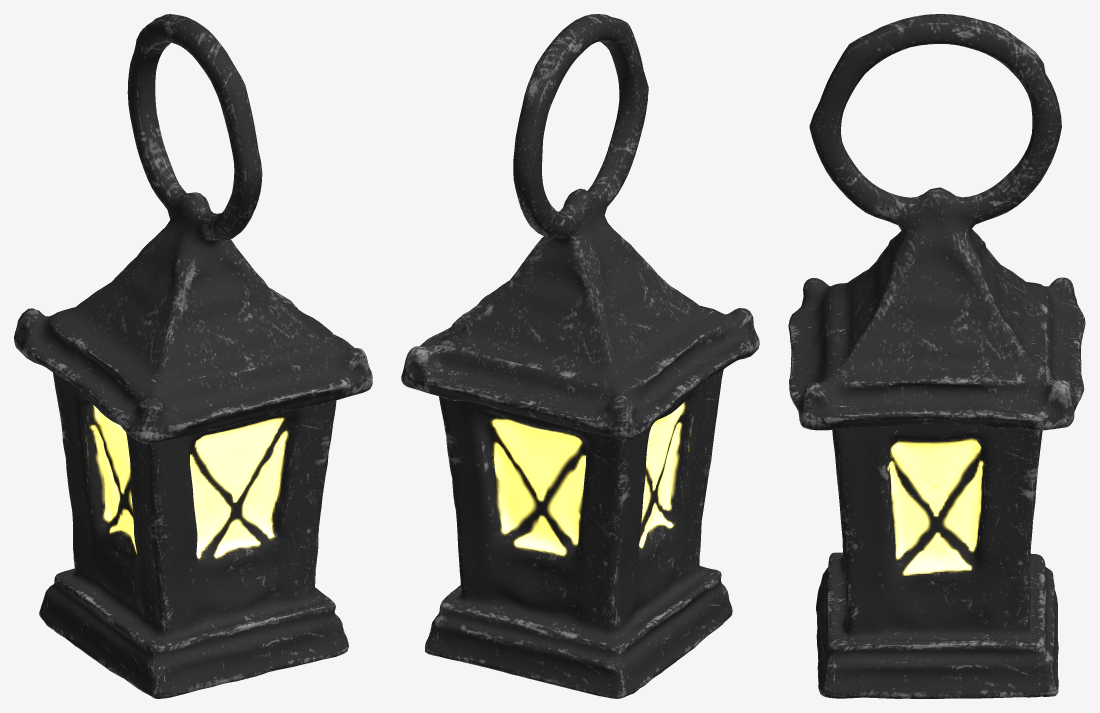
3 views of the same model, side by side, from view 1: azimuth 30°, elevation 25°; view 2: azimuth 150°, elevation 25°; view 3: azimuth 270°, elevation 25° (orthographic). The views are drawn at different scales.
Parts seen in each view (by area): view 1: mesh_base_material.001_0; view 2: mesh_base_material.001_0; view 3: mesh_base_material.001_0.
Boxes of the visible parts, x1=… form: mesh_base_material.001_0: x1=14, y1=14, x2=372, y2=698; mesh_base_material.001_0: x1=401, y1=14, x2=759, y2=698; mesh_base_material.001_0: x1=788, y1=14, x2=1085, y2=698.
Size of the model in its own units: 0.4274 by 0.9992 by 0.4241.
